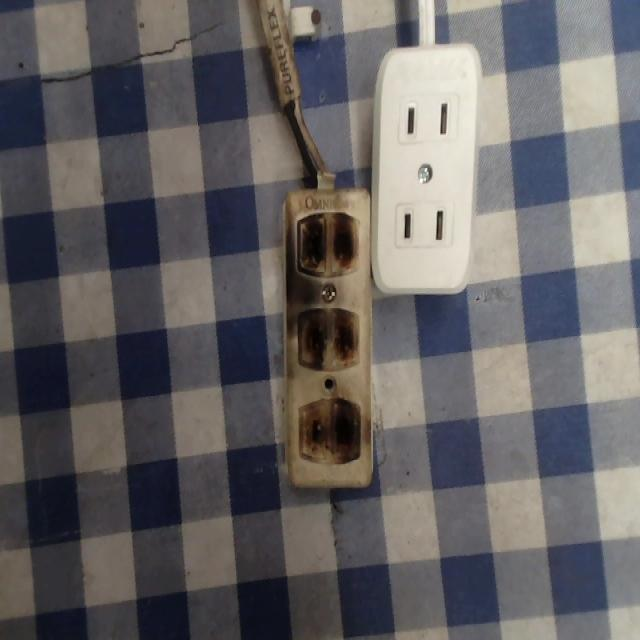-: (301, 396, 366, 477), (296, 303, 365, 376), (295, 208, 360, 281)
